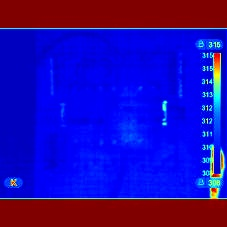Less: (196, 150, 227, 197)
